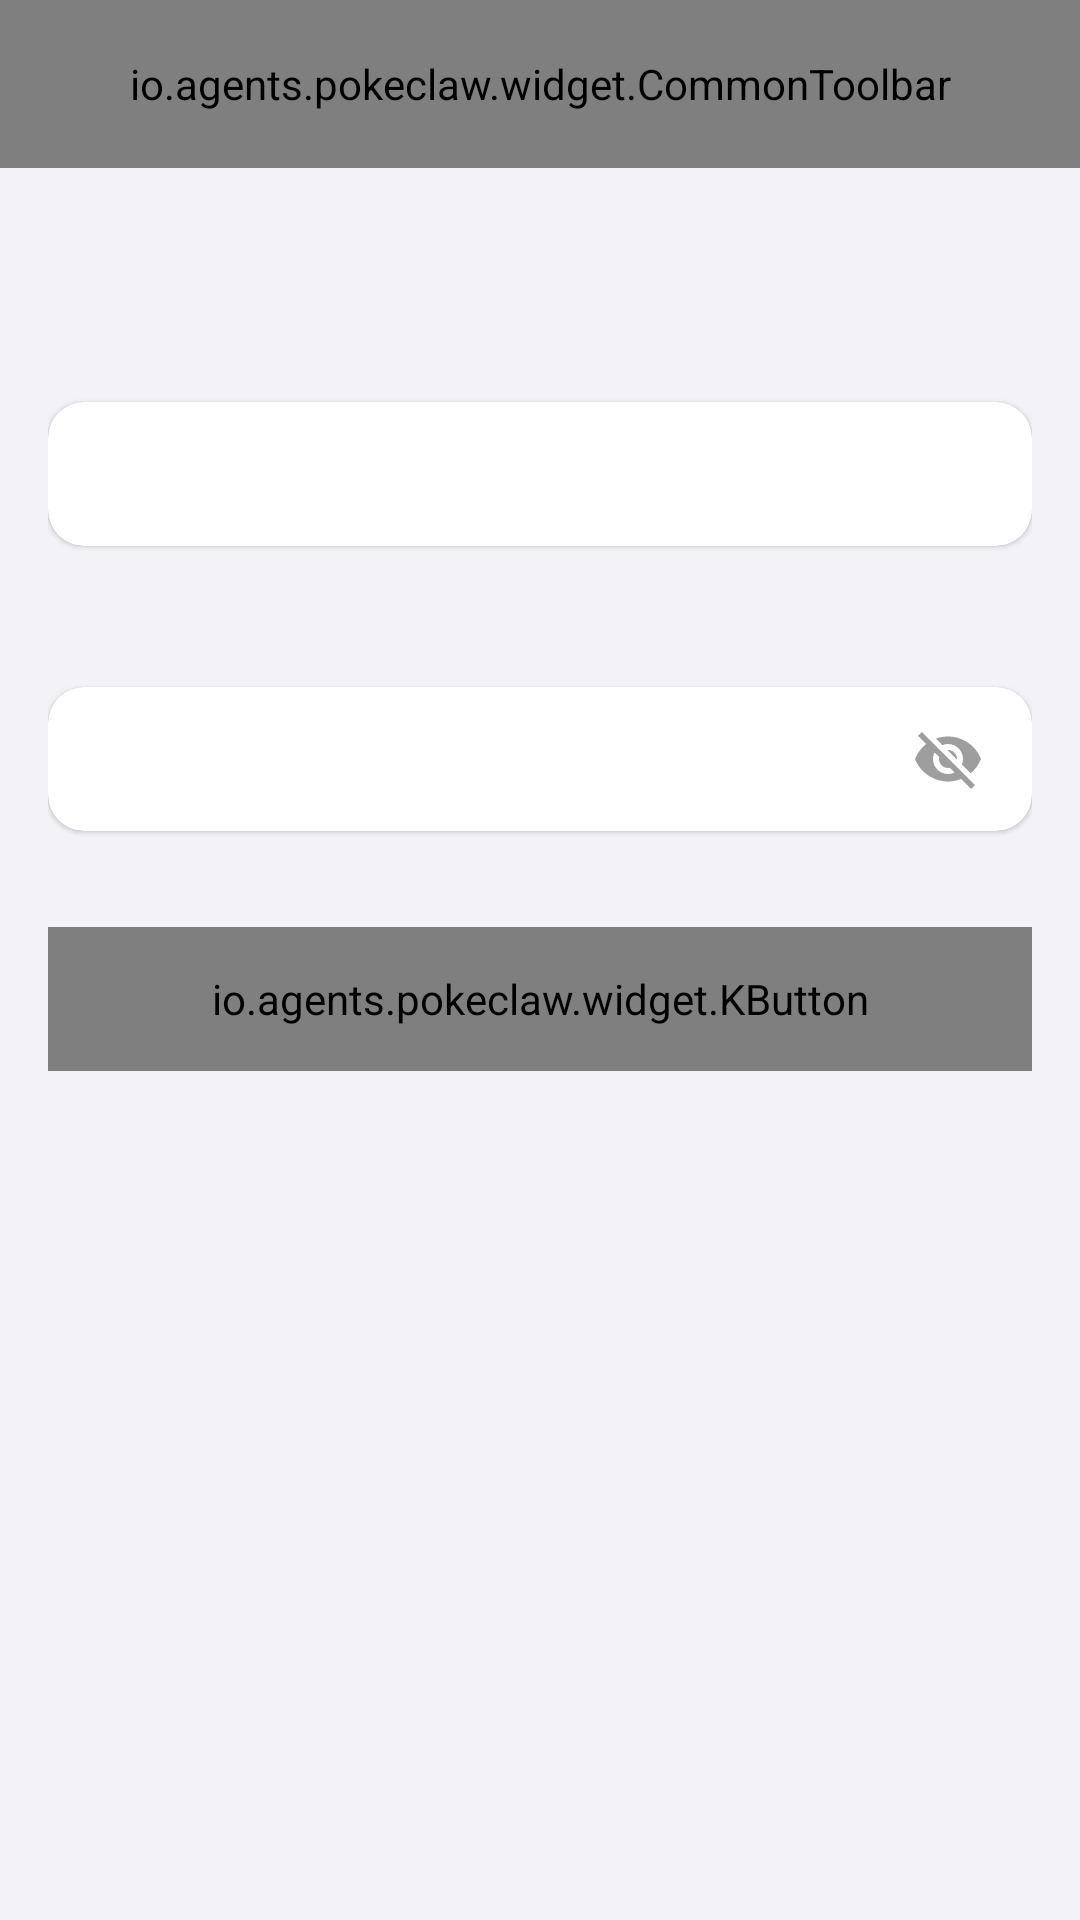

Screen size 1080 x 1920. Icon name, then its center in pixels as (x=x, y=y):
visibility off: (x=948, y=760)
